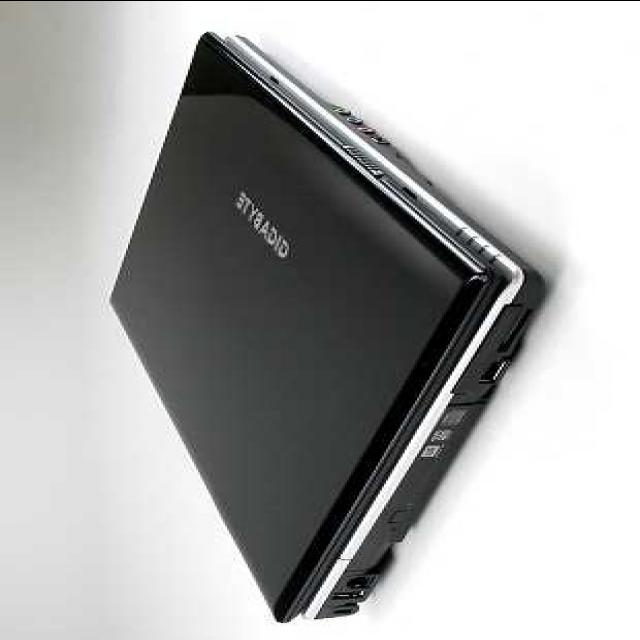laptop: (177, 99, 496, 536)
